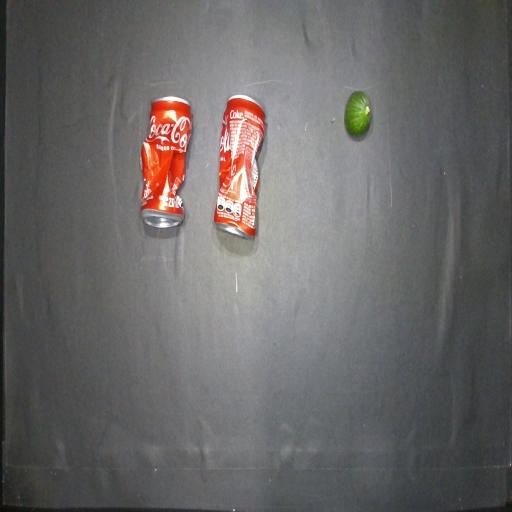higo: (343, 91, 372, 139)
lata_defectuoso: (214, 95, 265, 238), (141, 96, 193, 228)
